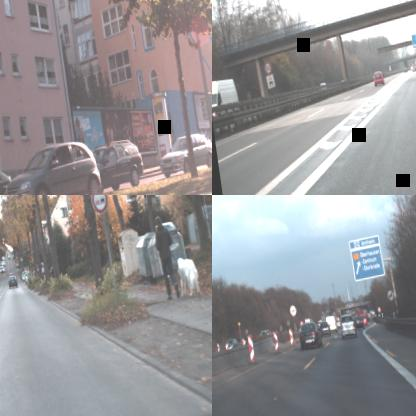no overtaking (trucks): (89, 195, 110, 214)
restriction ends -overtaking -trucks--: (288, 304, 296, 316), (387, 288, 394, 300)
speed limit 80: (262, 60, 272, 75)
